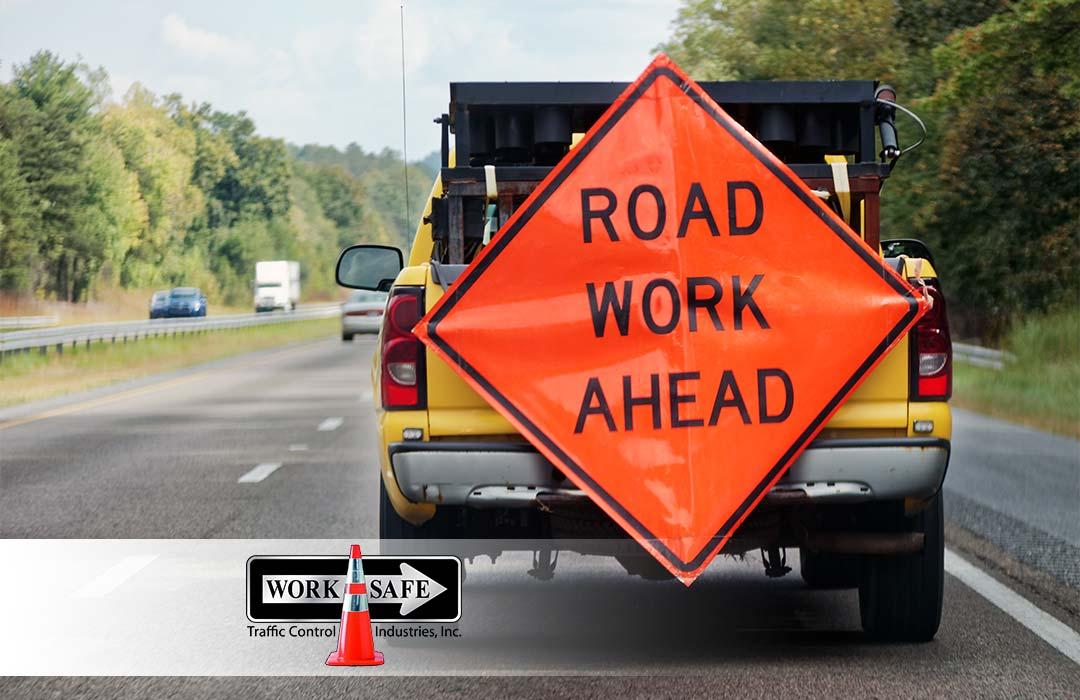Road_workahead: (415, 60, 936, 583)
Tree: (1, 57, 124, 306)
